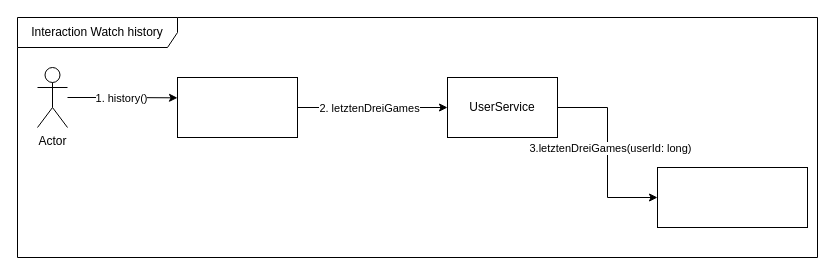
The diagram is 835 pixels wide and 275 high, and some of its shapes have lost their labels. Here are the shapes that lost their labels. From the top down, the centre of each, then its label:
(x=237, y=107): UserController
(x=732, y=197): ChessgameRepository
